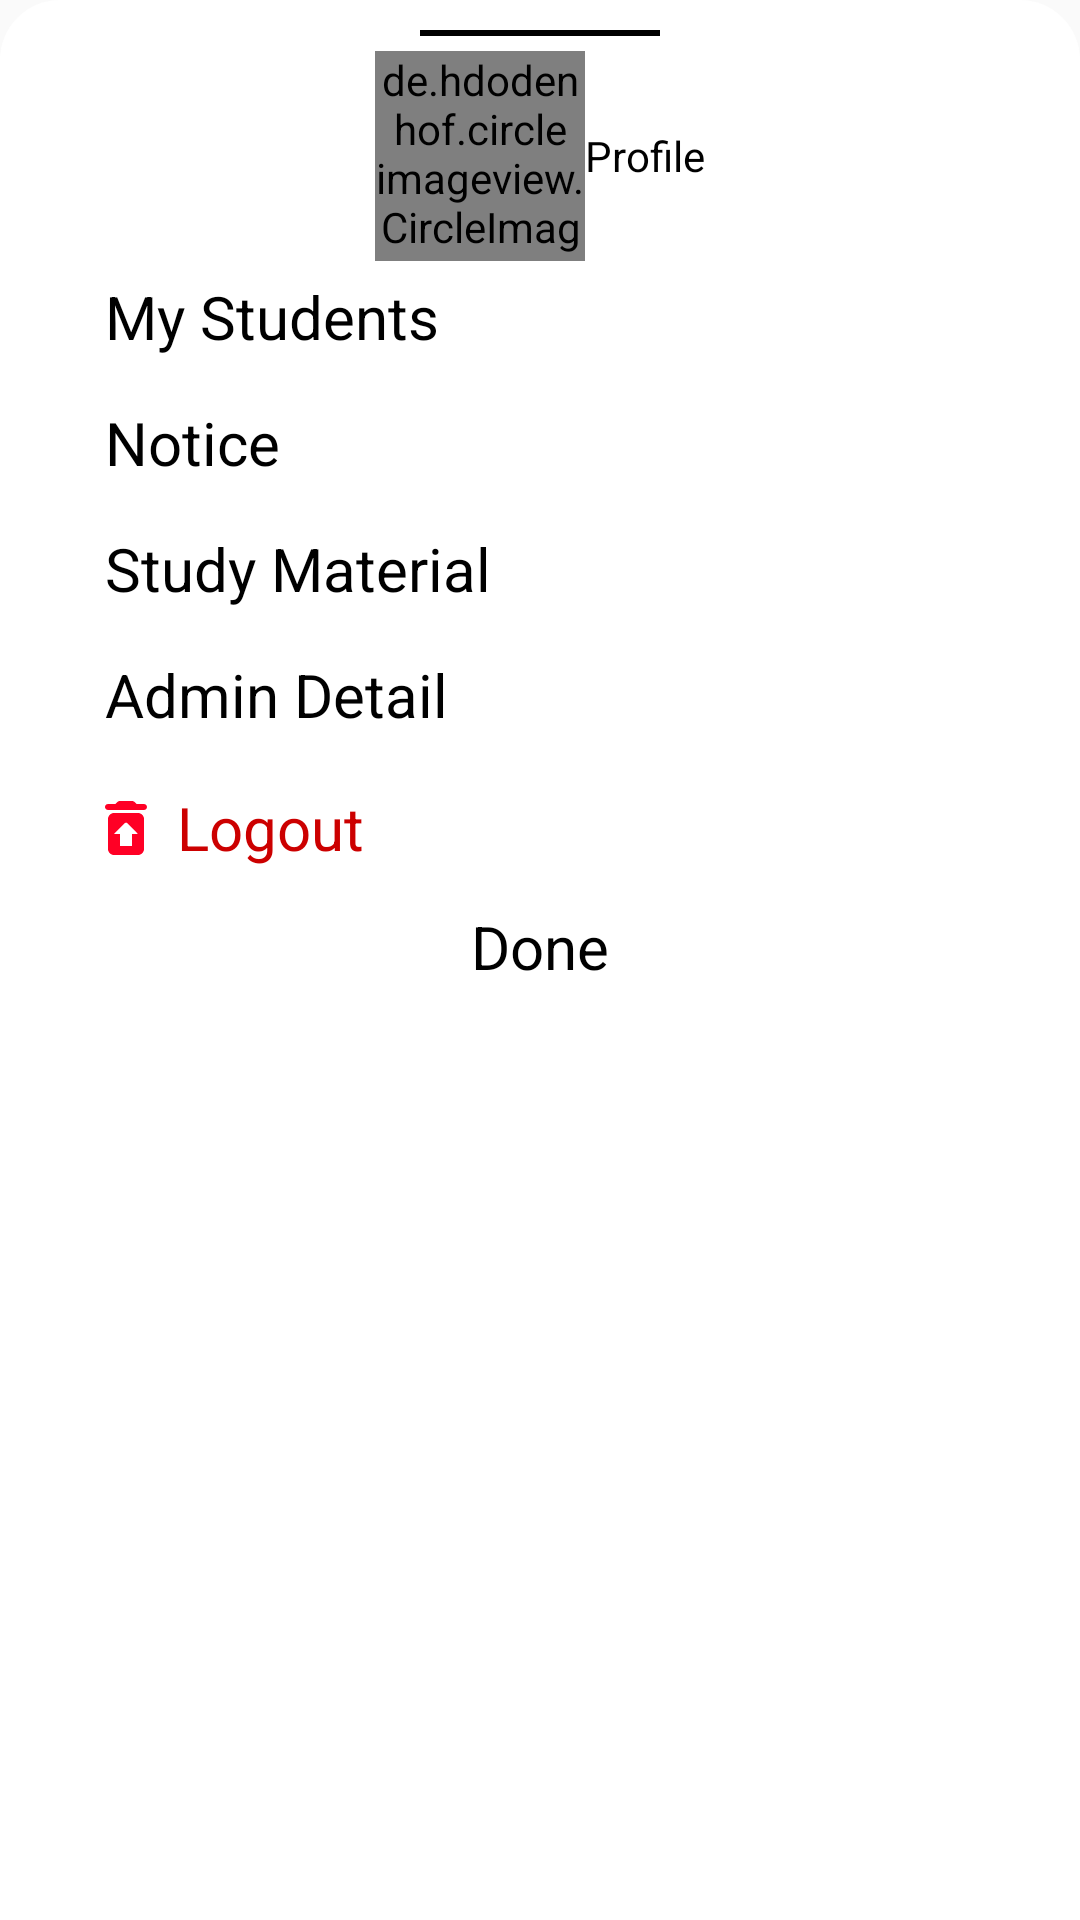

Screen size 1080x1920. Icon name, then its box in pixels as (x1,y1,x2,y2):
restore from trash: (105,801,147,855)
